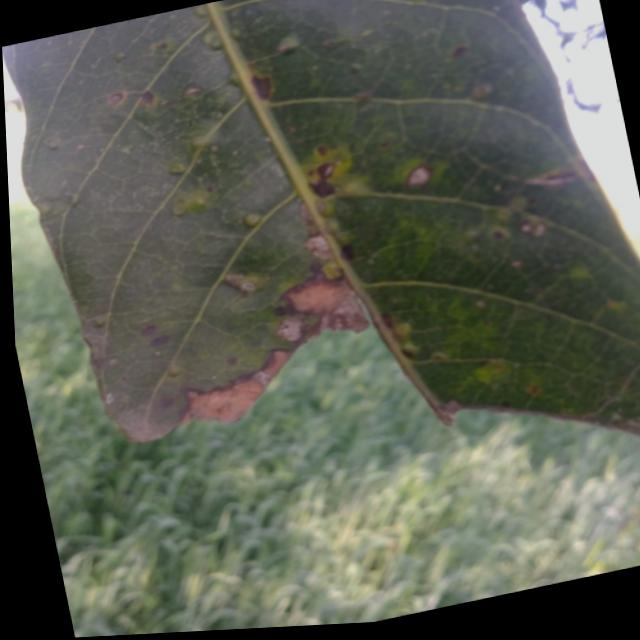Anthracnose: (251, 72, 274, 102), (319, 165, 337, 181)
Powdery Mildew: (402, 166, 433, 189), (306, 234, 331, 255)
black die: (308, 178, 335, 199), (272, 303, 294, 319), (150, 335, 173, 346), (136, 328, 160, 337), (341, 248, 356, 261)
